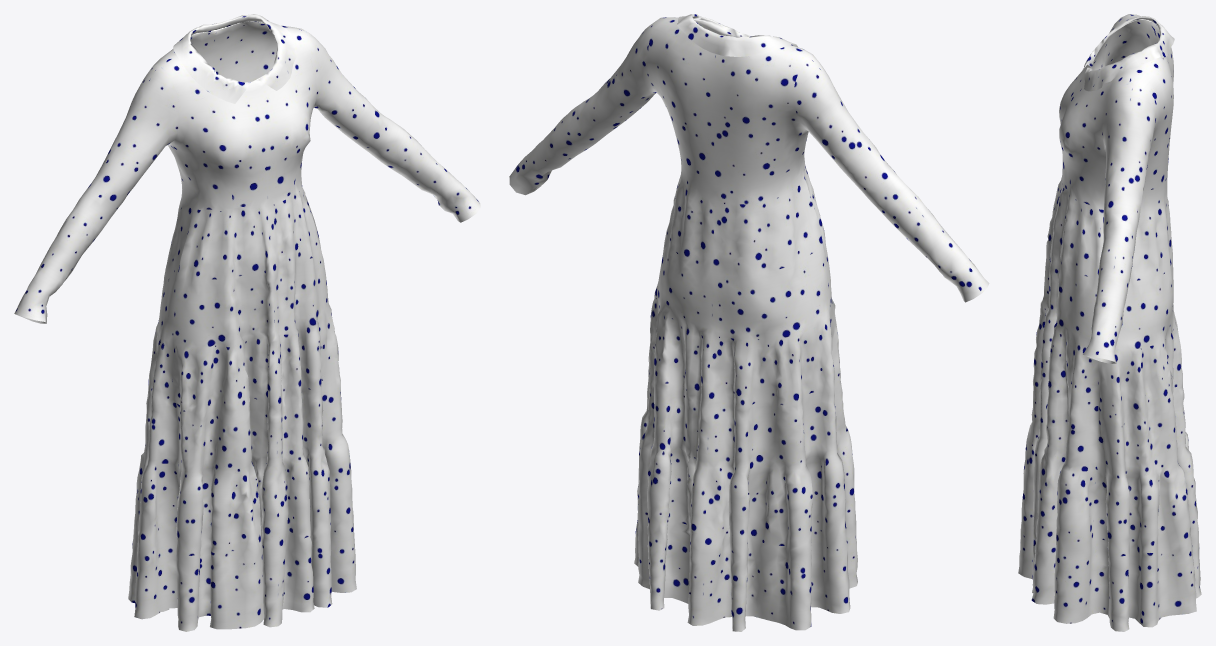
The picture shows the model from 3 angles, left to right: view 1: azimuth 30°, elevation 25°; view 2: azimuth 150°, elevation 25°; view 3: azimuth 270°, elevation 25°; orthographic projection. The views are drawn at different scales.
Parts seen in each view (by area): view 1: Model_8; view 2: Model_8; view 3: Model_8.
Boxes of the visible parts, <box> form: Model_8: <box>14,14,480,631</box>; Model_8: <box>509,14,989,631</box>; Model_8: <box>1018,14,1201,631</box>.
Bounding box in the file's own units: 20.98 × 24.64 × 7.29.
Materials: 3 (3 with a texture image).
